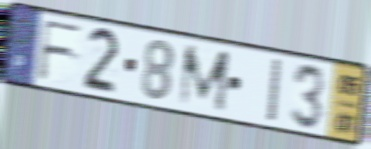2: (82, 26, 123, 100)
3: (291, 63, 329, 131)
8: (140, 38, 177, 103)
F: (35, 17, 86, 83)
I: (266, 55, 284, 126)
M: (176, 44, 233, 115)
